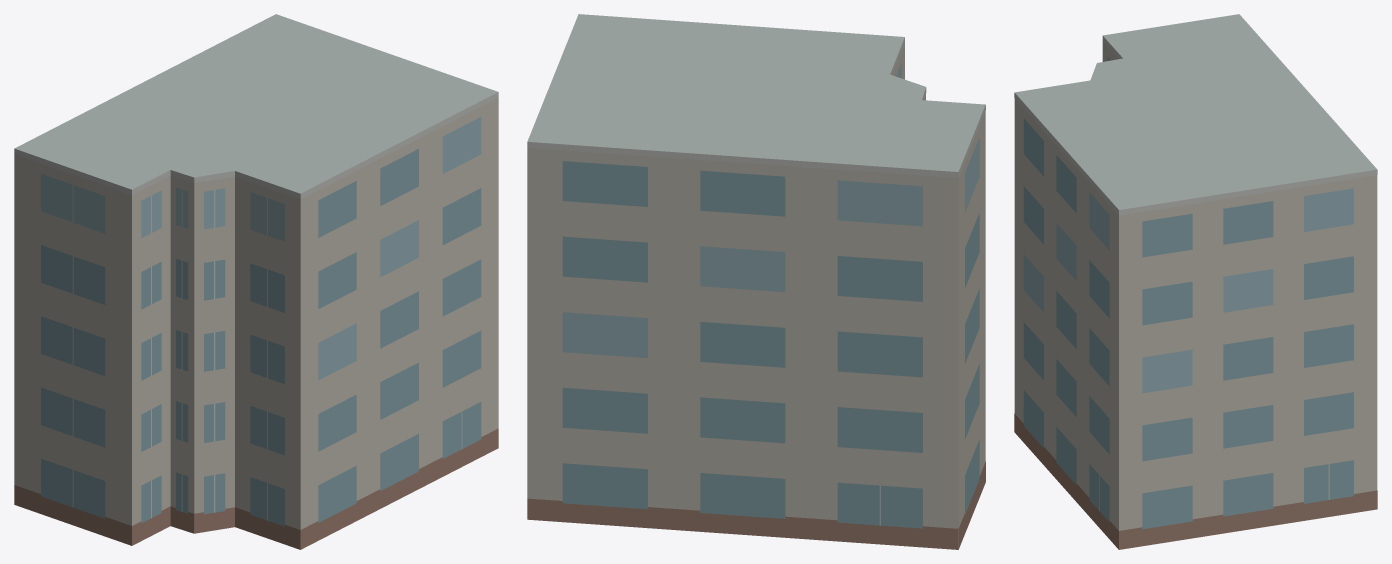
The model's file is survey-upis-32957974.glb.
3 renders of one model, left to right at view 1: azimuth 30°, elevation 25°; view 2: azimuth 150°, elevation 25°; view 3: azimuth 270°, elevation 25°, orthographic. The views are drawn at different scales.
Visible parts, largest first — view 1: survey-upis-32957974.tmp; view 2: survey-upis-32957974.tmp; view 3: survey-upis-32957974.tmp.
Part boxes in pixels (box(x1,y1,x2,y2)): survey-upis-32957974.tmp: box(14, 14, 498, 549); survey-upis-32957974.tmp: box(527, 14, 985, 549); survey-upis-32957974.tmp: box(1014, 14, 1377, 549).
Bounding box in the file's own units: 18.89 × 15.25 × 14.78.
